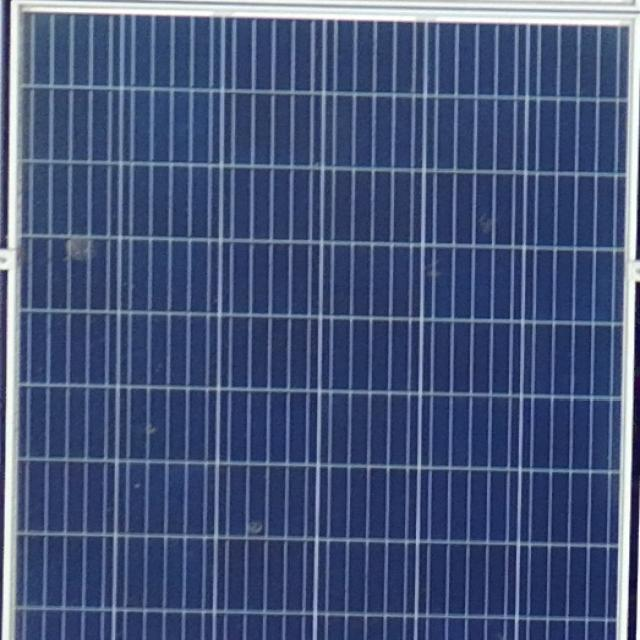bird-droppings: (56, 230, 106, 264), (232, 510, 275, 540)
